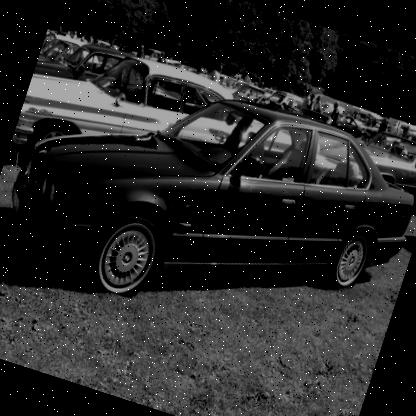Car: (0, 8, 415, 379)
